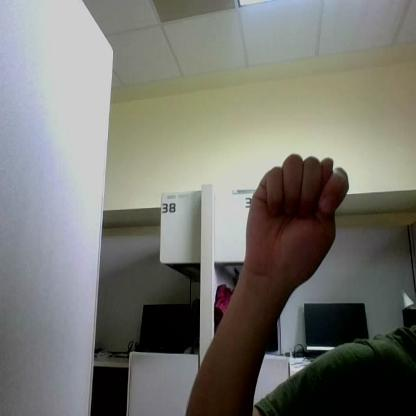T: (246, 154, 348, 285)
